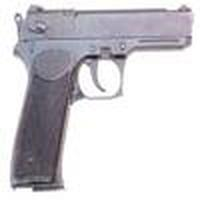gun: (9, 7, 193, 190)
